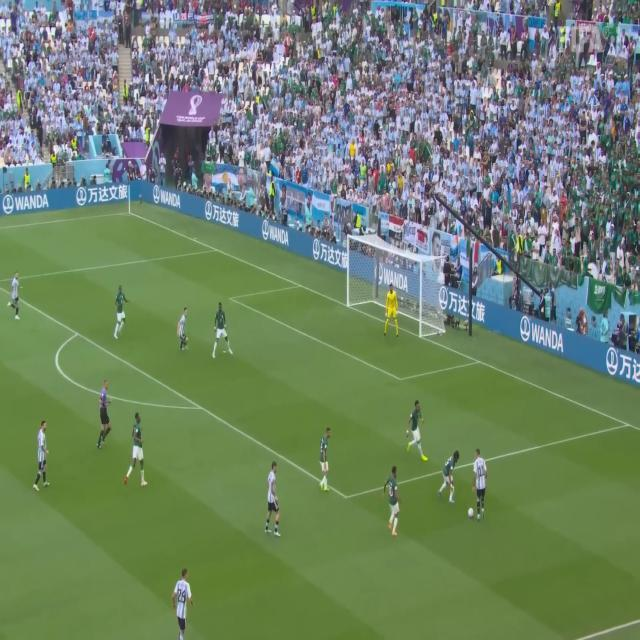football: (465, 501, 484, 525)
